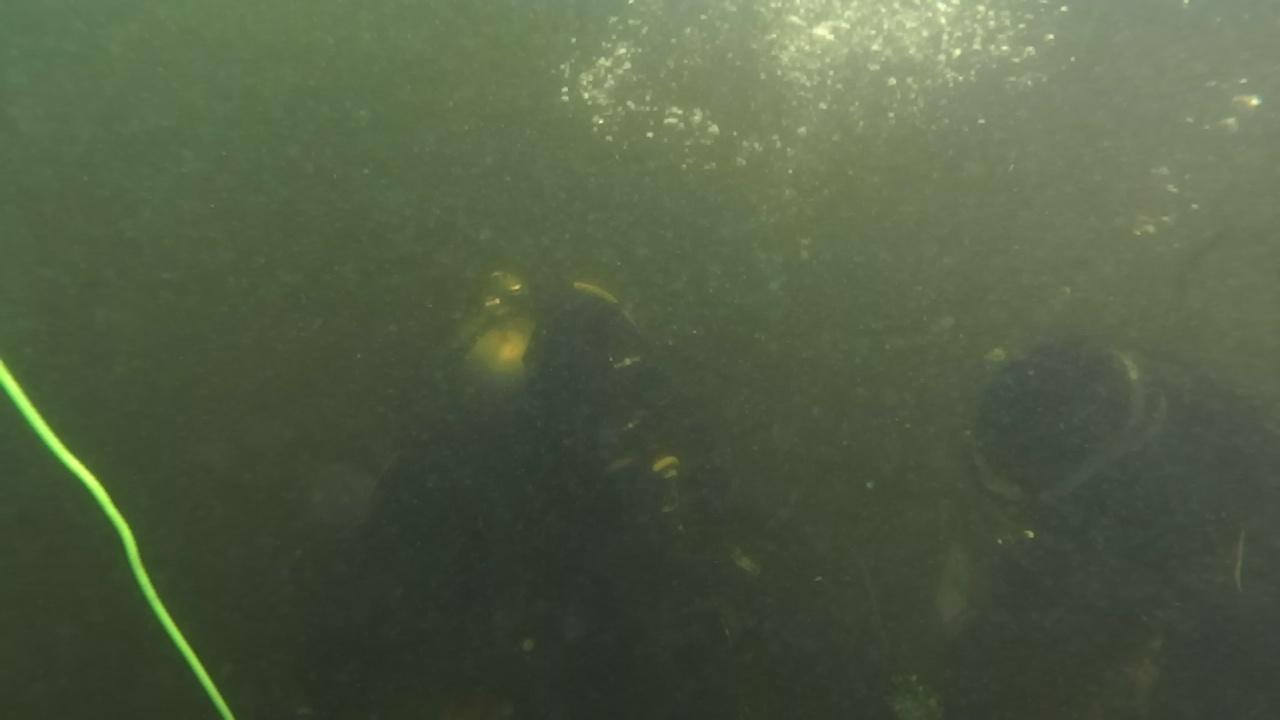Diver: (926, 298, 1276, 714)
